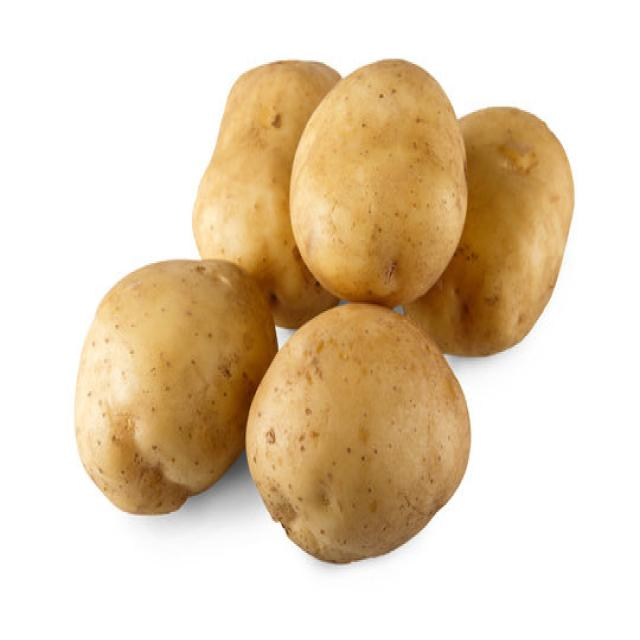Potato: (244, 301, 471, 564), (72, 256, 278, 516), (402, 103, 574, 357), (191, 57, 342, 329)
